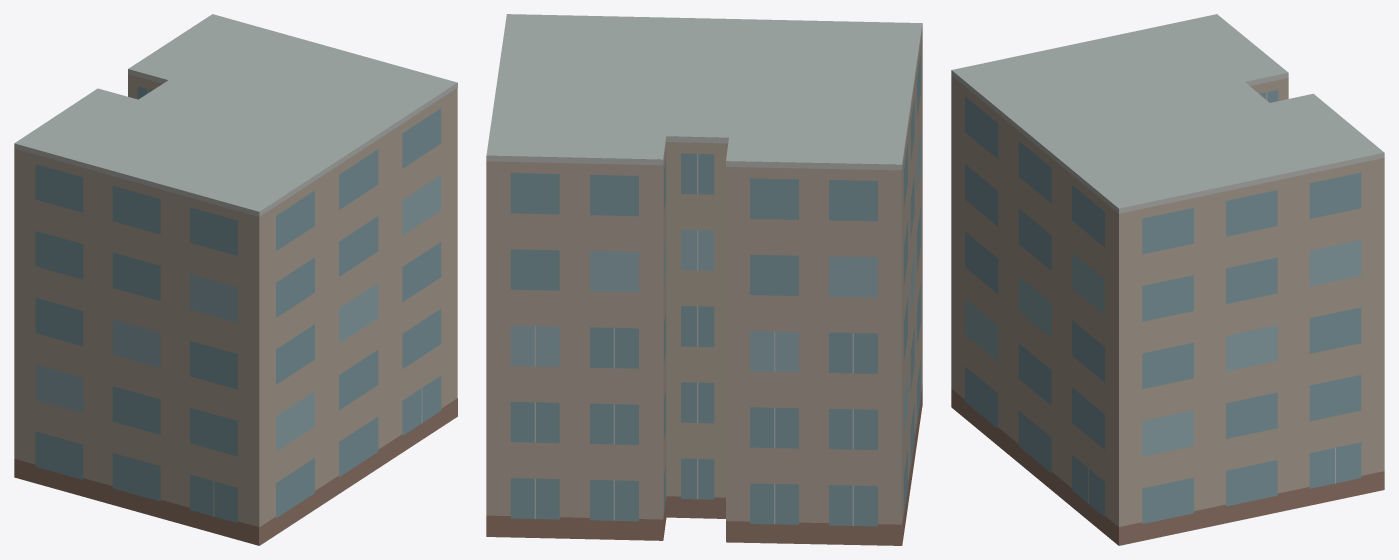
File: survey-upis-33038762.glb
The picture shows the model from 3 angles, left to right: view 1: azimuth 30°, elevation 25°; view 2: azimuth 150°, elevation 25°; view 3: azimuth 270°, elevation 25°; orthographic projection. The views are drawn at different scales.
Parts seen in each view (by area): view 1: survey-upis-33038762.tmp; view 2: survey-upis-33038762.tmp; view 3: survey-upis-33038762.tmp.
Part boxes in pixels (<box>): survey-upis-33038762.tmp: <box>14,14,457,545</box>; survey-upis-33038762.tmp: <box>486,14,922,545</box>; survey-upis-33038762.tmp: <box>951,14,1384,545</box>.
Size of the model in its own units: 19.8 by 16 by 18.63.
